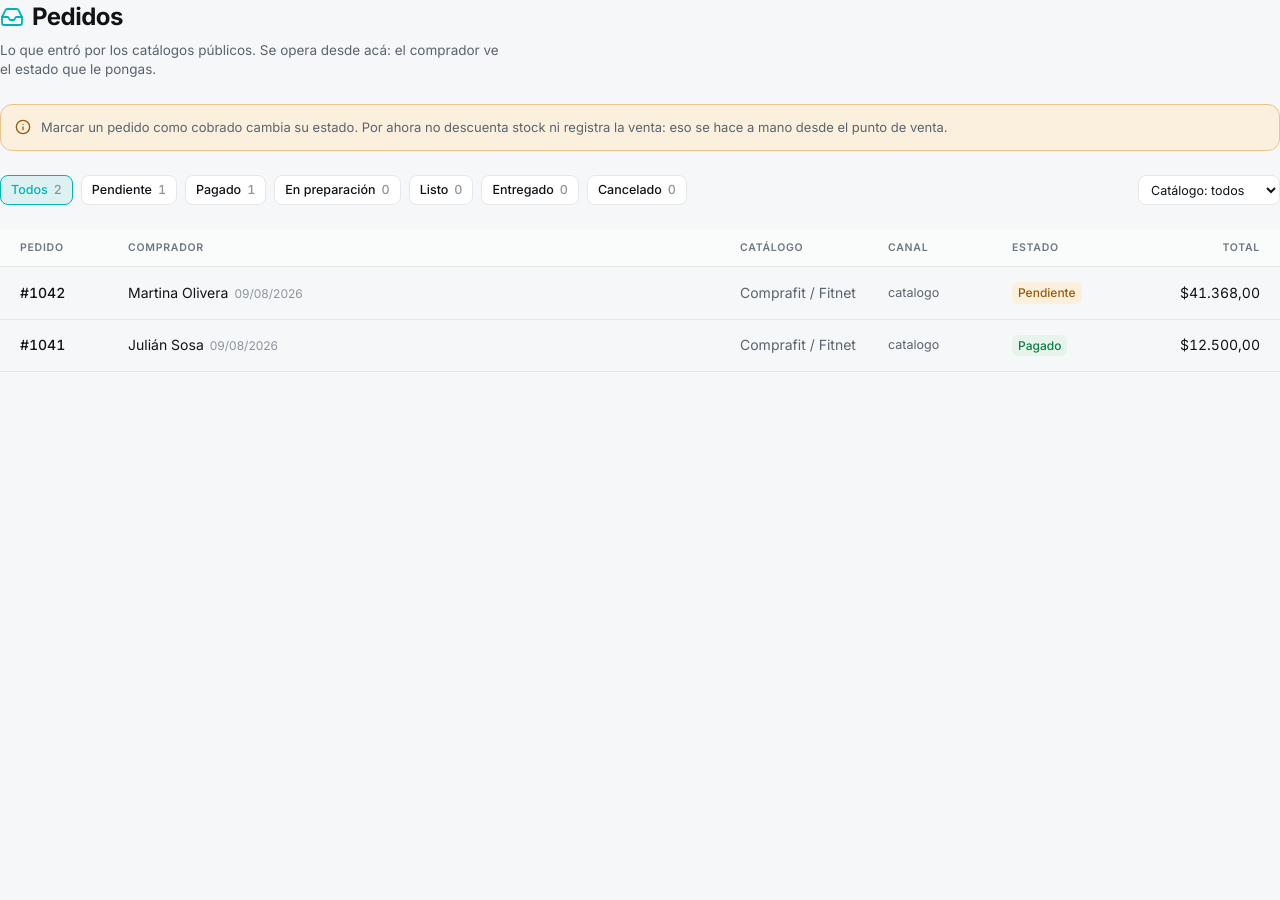
Test: el panel lateral › abre con las líneas congeladas y las transiciones que mandó el servidor
Click the button that starts with "Martina Olivera" at (43, 292), box top-left (0, 267), bottom-right (1279, 320)
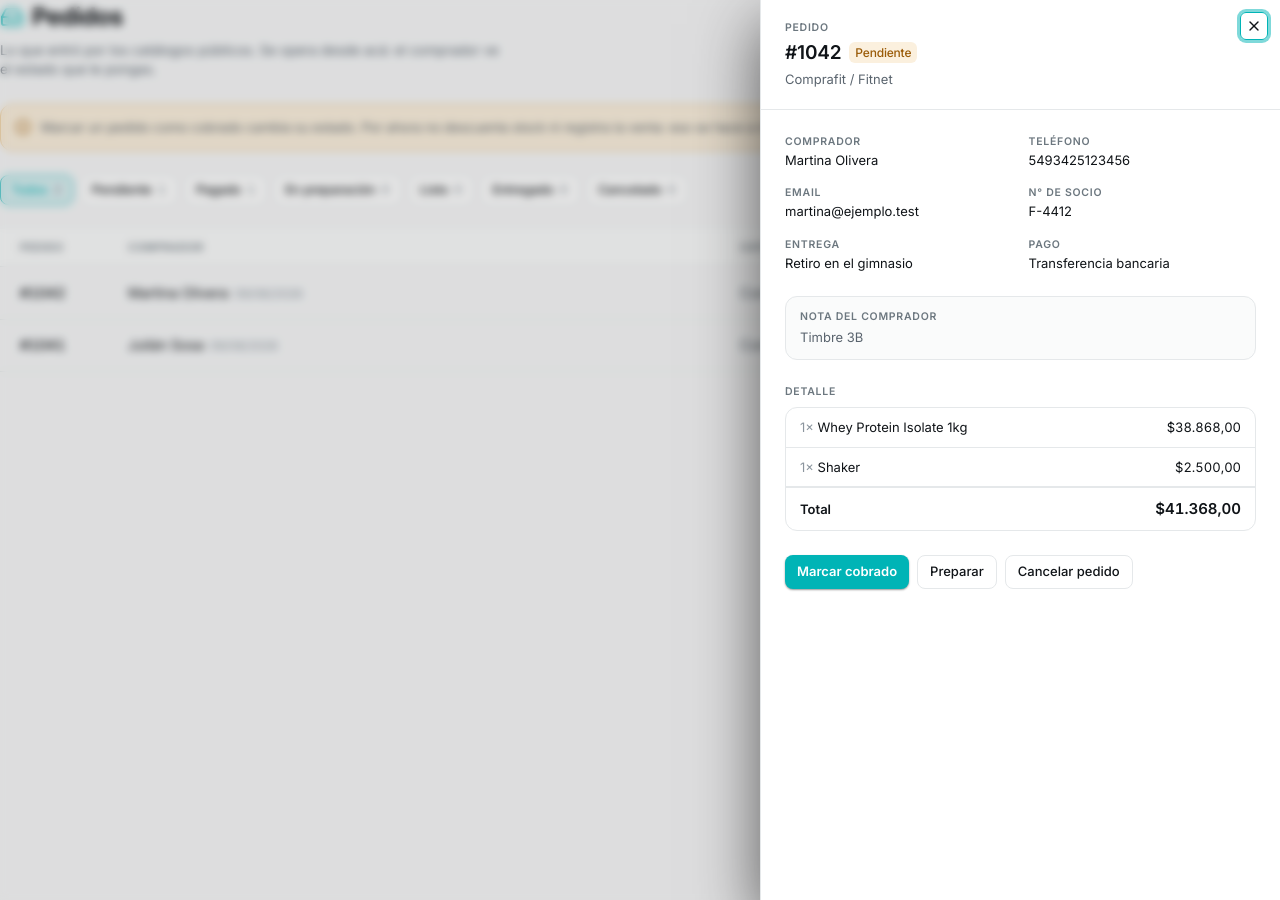
Result: the text "Whey Protein Isolate 1kg" is shown at top-left (818, 419), bottom-right (967, 435)
Result: the text "F-4412" is shown at top-left (1028, 203), bottom-right (1072, 219)
Result: the button "Marcar cobrado" is shown at top-left (785, 554), bottom-right (909, 588)
